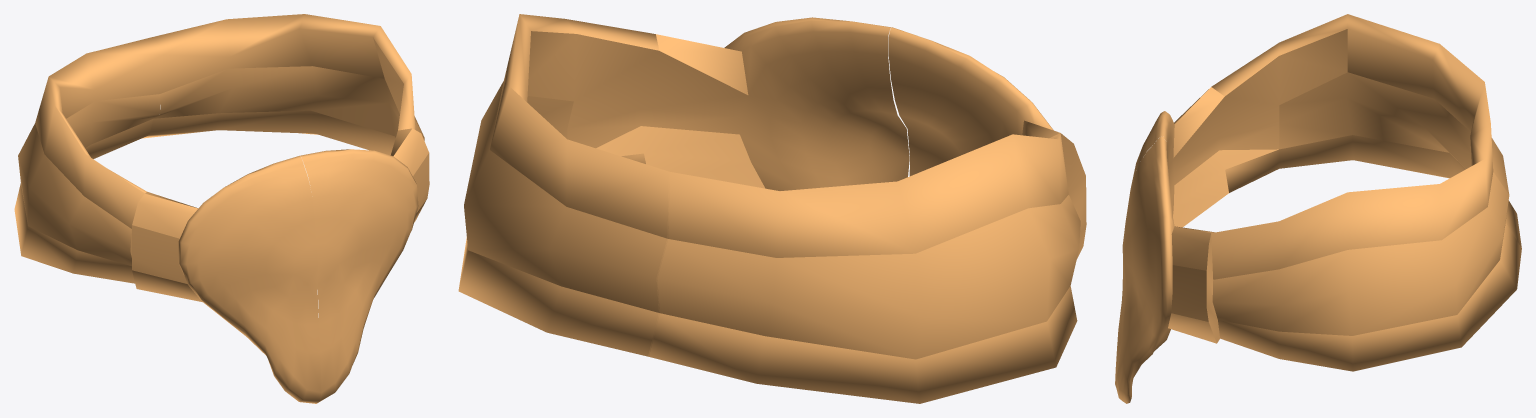
File: belt_bronze.glb
3 views of the same model, side by side, from view 1: azimuth 30°, elevation 25°; view 2: azimuth 150°, elevation 25°; view 3: azimuth 270°, elevation 25° (orthographic). The views are drawn at different scales.
Visible parts, largest first — view 1: Sphere004; view 2: Sphere004; view 3: Sphere004.
Boxes of the visible parts, <box> form: Sphere004: <box>14,14,429,403</box>; Sphere004: <box>458,14,1086,403</box>; Sphere004: <box>1115,14,1521,403</box>.
Bounding box in the file's own units: 0.3104 × 0.2033 × 0.2513.
